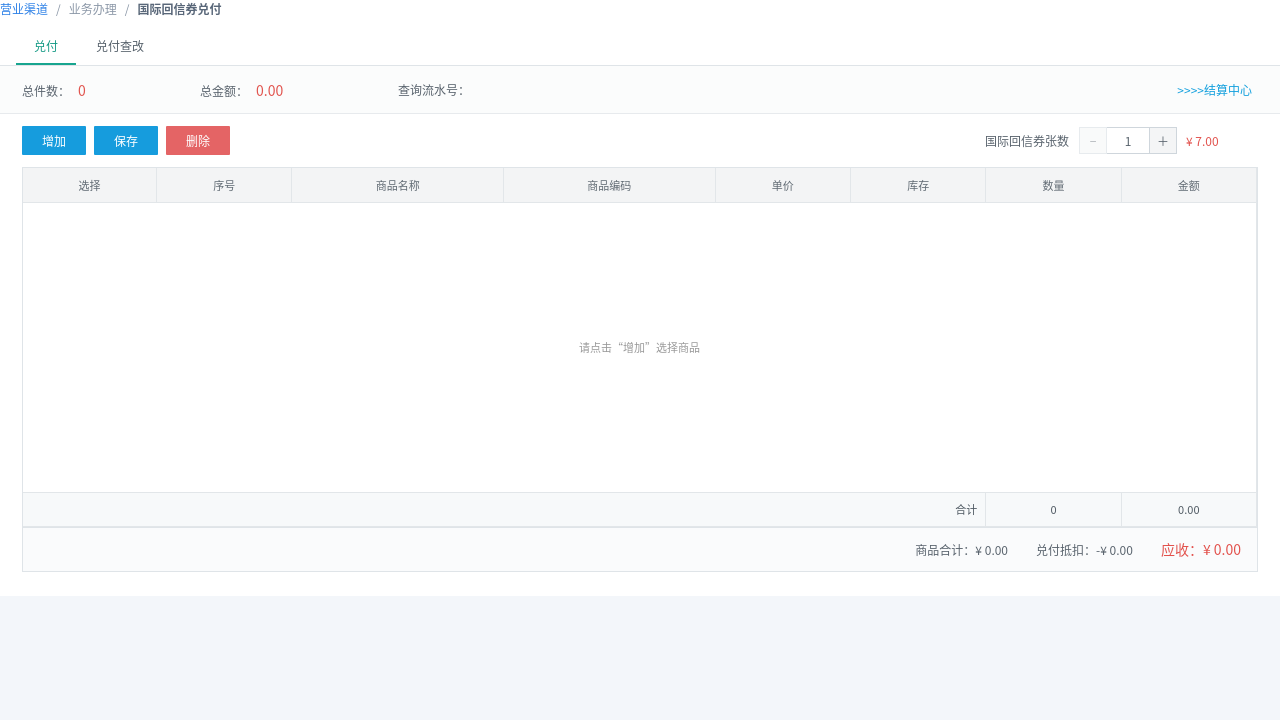
ReplyCouponWorkspace › offers direct settlement when goods do not exceed the coupon value
Click the button "增加" at (54, 140), box [22, 126, 86, 155]
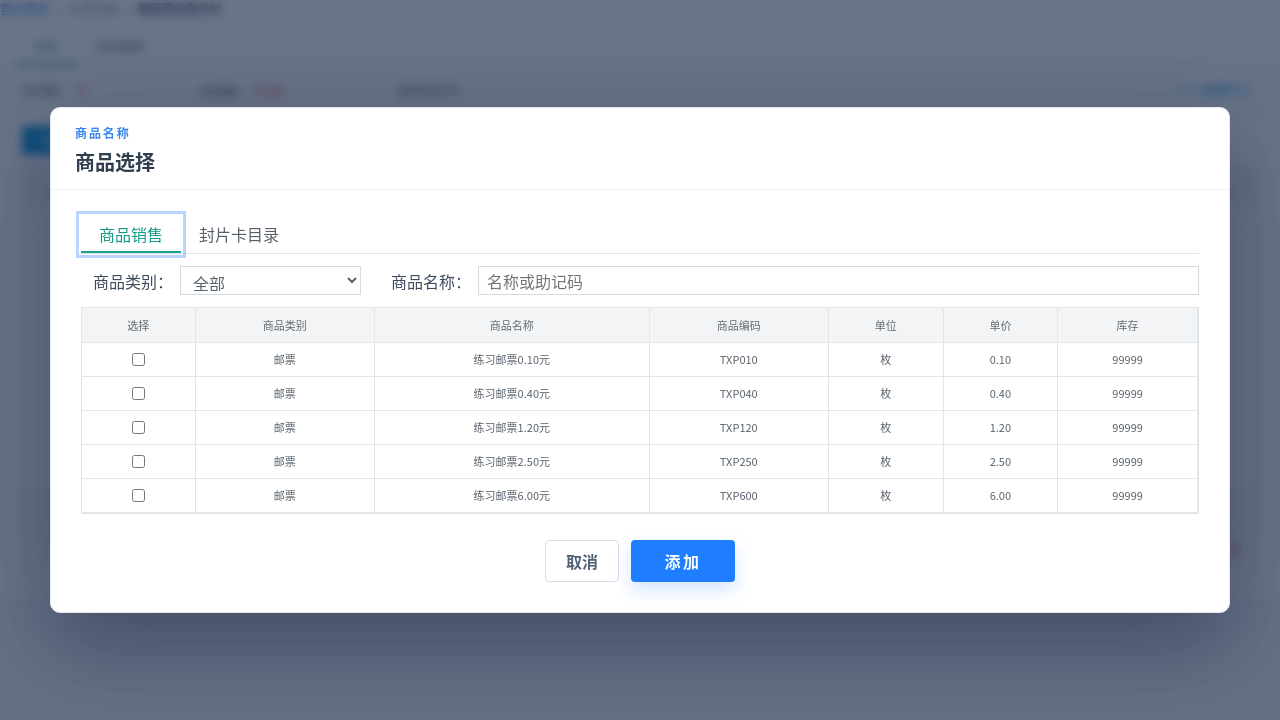
Click the checkbox named "选择商品 练习邮票6.00元" at (139, 495), box [132, 489, 145, 502]
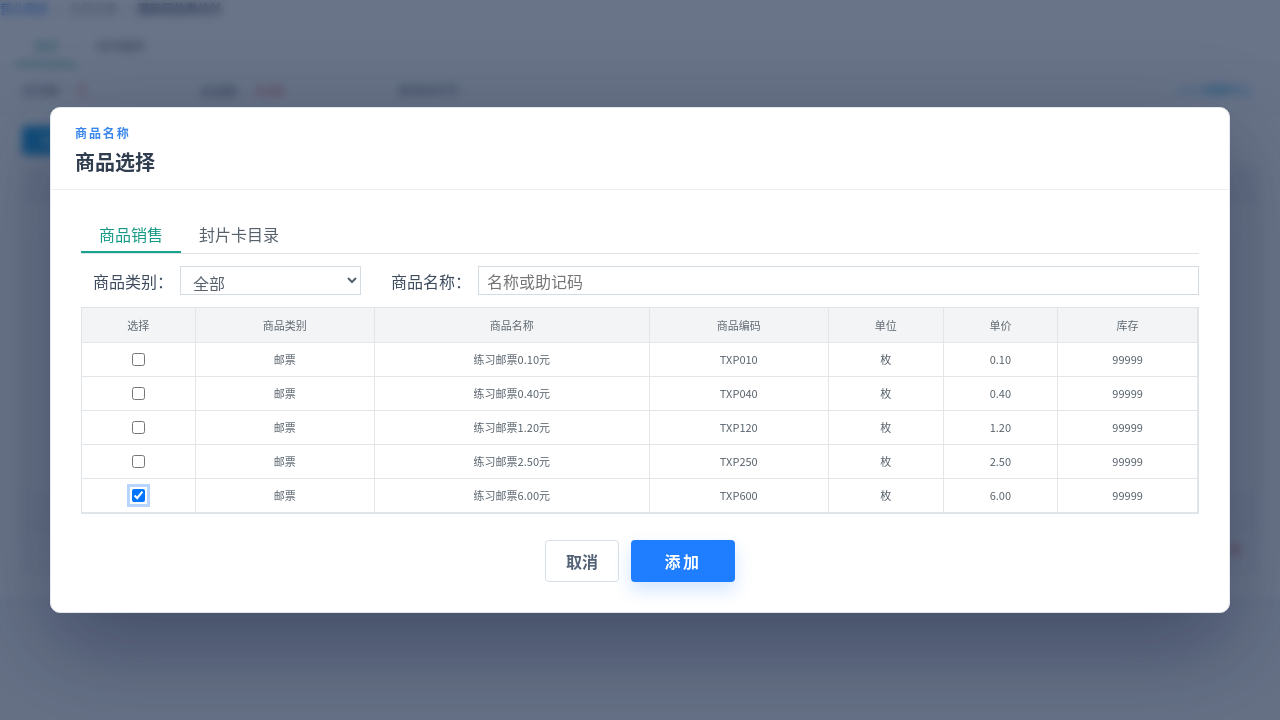
Click the button "添加" at (683, 561), box [631, 540, 735, 582]
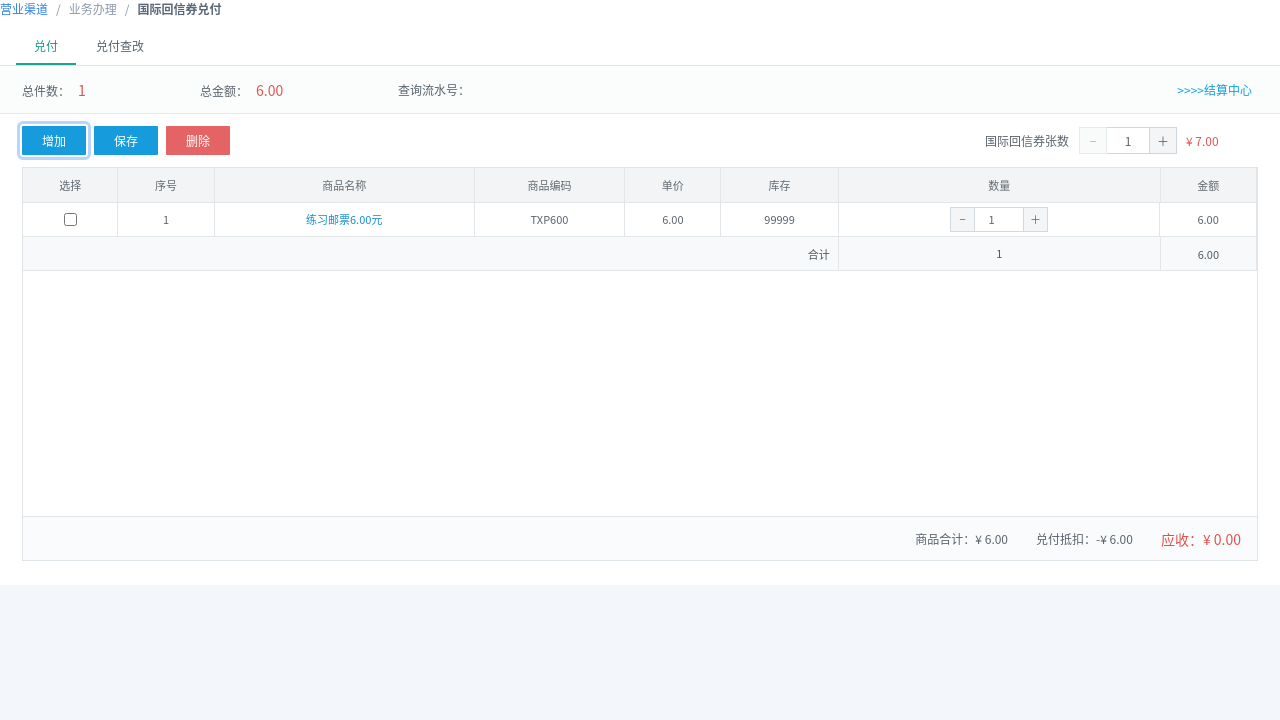
Click the button "保存" at (126, 140), box [94, 126, 158, 155]
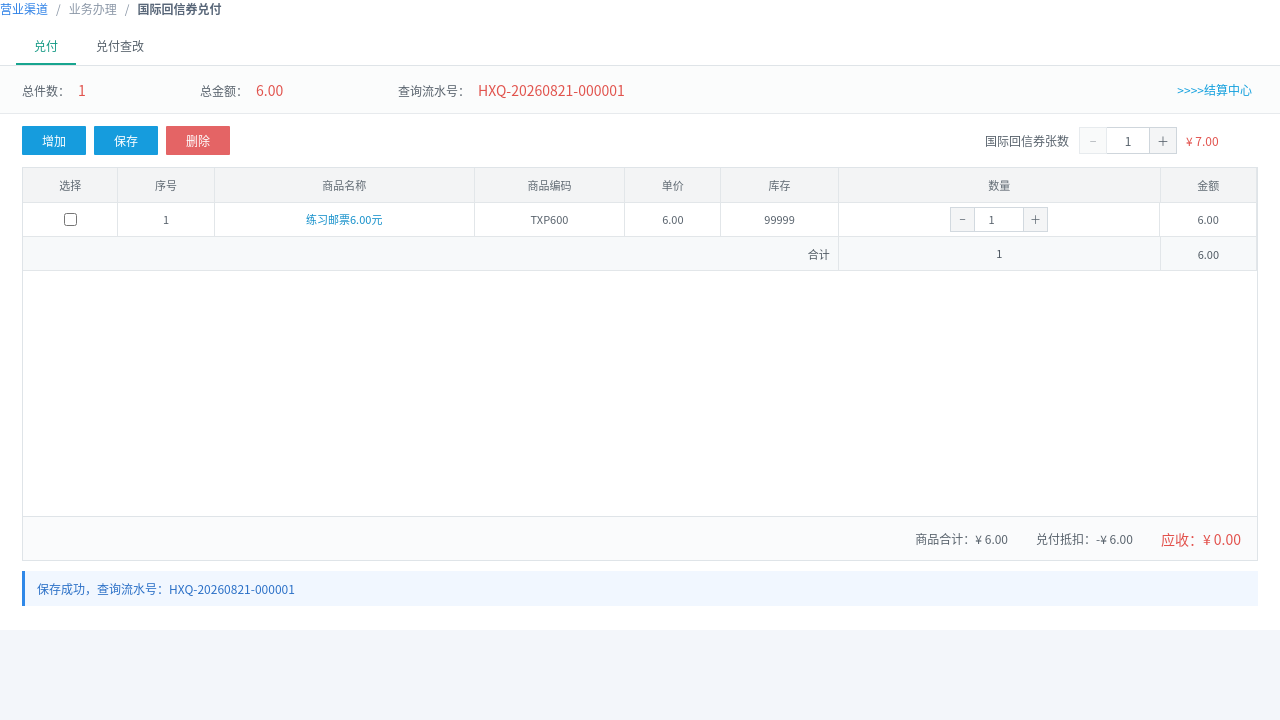
Click the button ">>>>结算中心" at (1215, 90), box [1171, 80, 1258, 99]
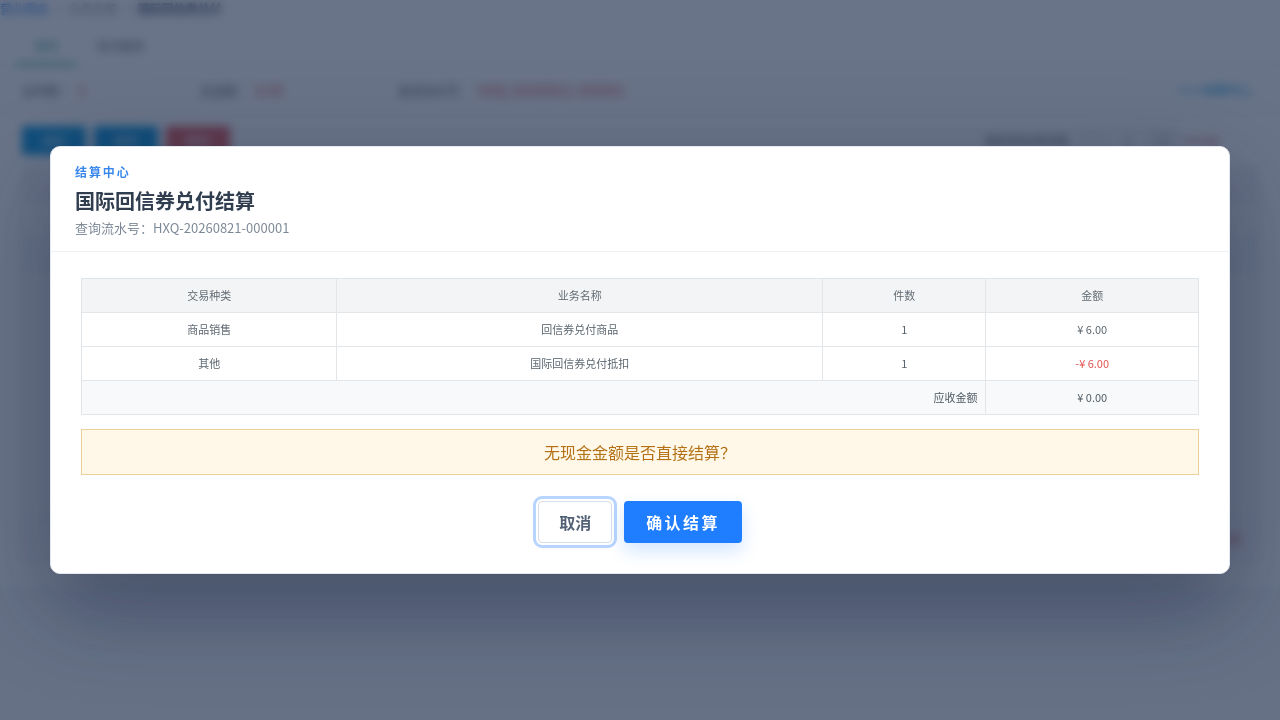
Check: the text "无现金金额是否直接结算？" is shown, box [81, 429, 1199, 475]
Click the button "确认结算" at (683, 522), box [624, 501, 742, 543]
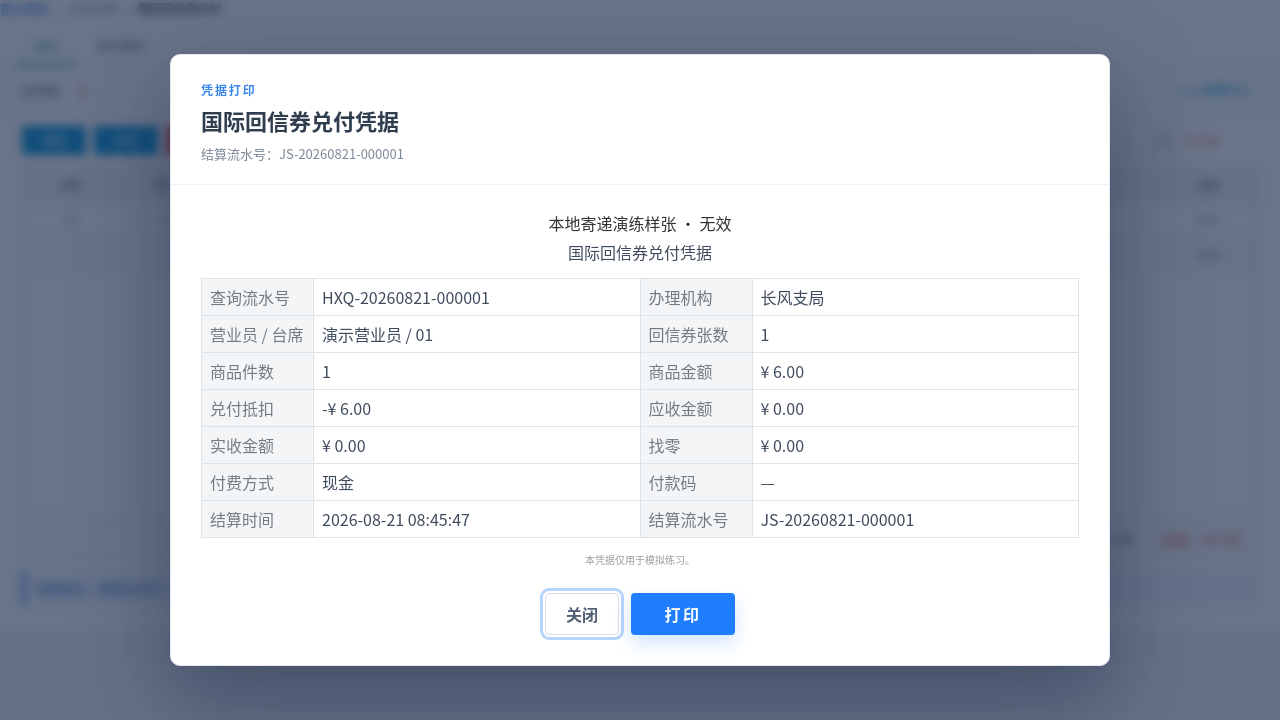
Check: the dialog "国际回信券兑付凭据" is shown
